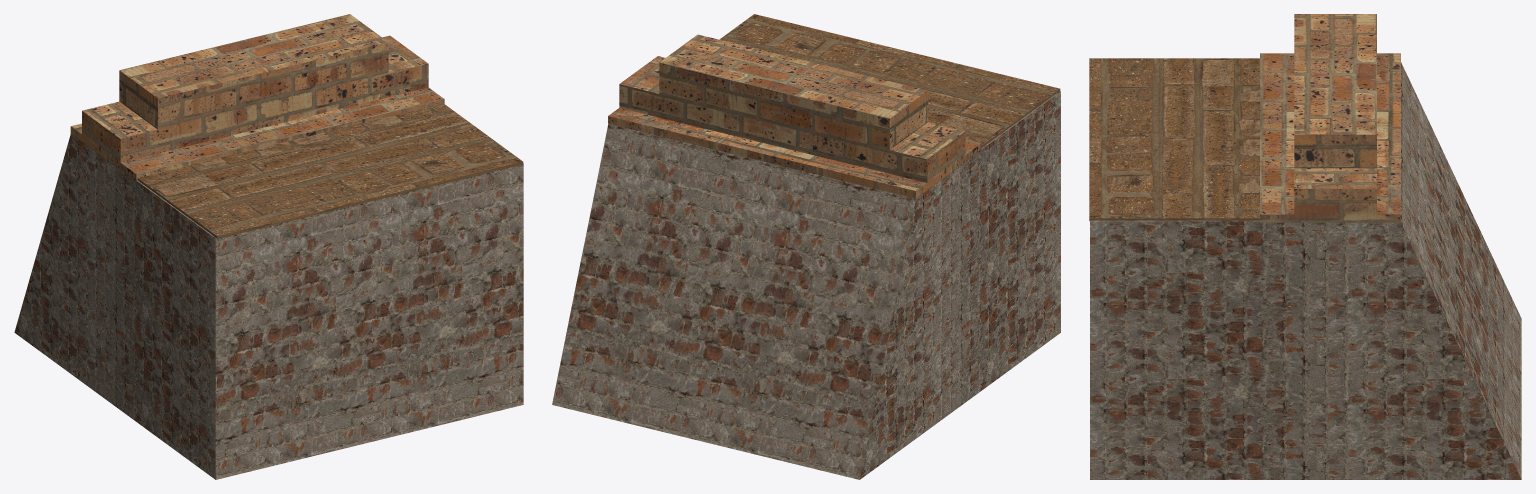
The model's file is OldStoneWall.fbx.
3 views of the same model, side by side, from view 1: azimuth 30°, elevation 25°; view 2: azimuth 150°, elevation 25°; view 3: azimuth 270°, elevation 25° (orthographic). The views are drawn at different scales.
Visible parts, largest first — view 1: OldRampartBody, OldRampart, RampartFloor.009; view 2: OldRampartBody, OldRampart, RampartFloor.009; view 3: OldRampartBody, RampartFloor.009, OldRampart.
Part boxes in pixels (x1,y1,x2,y2): OldRampartBody: (14, 134, 523, 479); OldRampart: (70, 14, 444, 181); RampartFloor.009: (137, 103, 523, 238); OldRampartBody: (552, 91, 1060, 479); OldRampart: (608, 34, 981, 198); RampartFloor.009: (719, 14, 1060, 147); OldRampartBody: (1090, 62, 1521, 479); RampartFloor.009: (1089, 58, 1259, 221); OldRampart: (1260, 14, 1400, 222).
Size of the model in its own units: 267 by 251 by 303.
